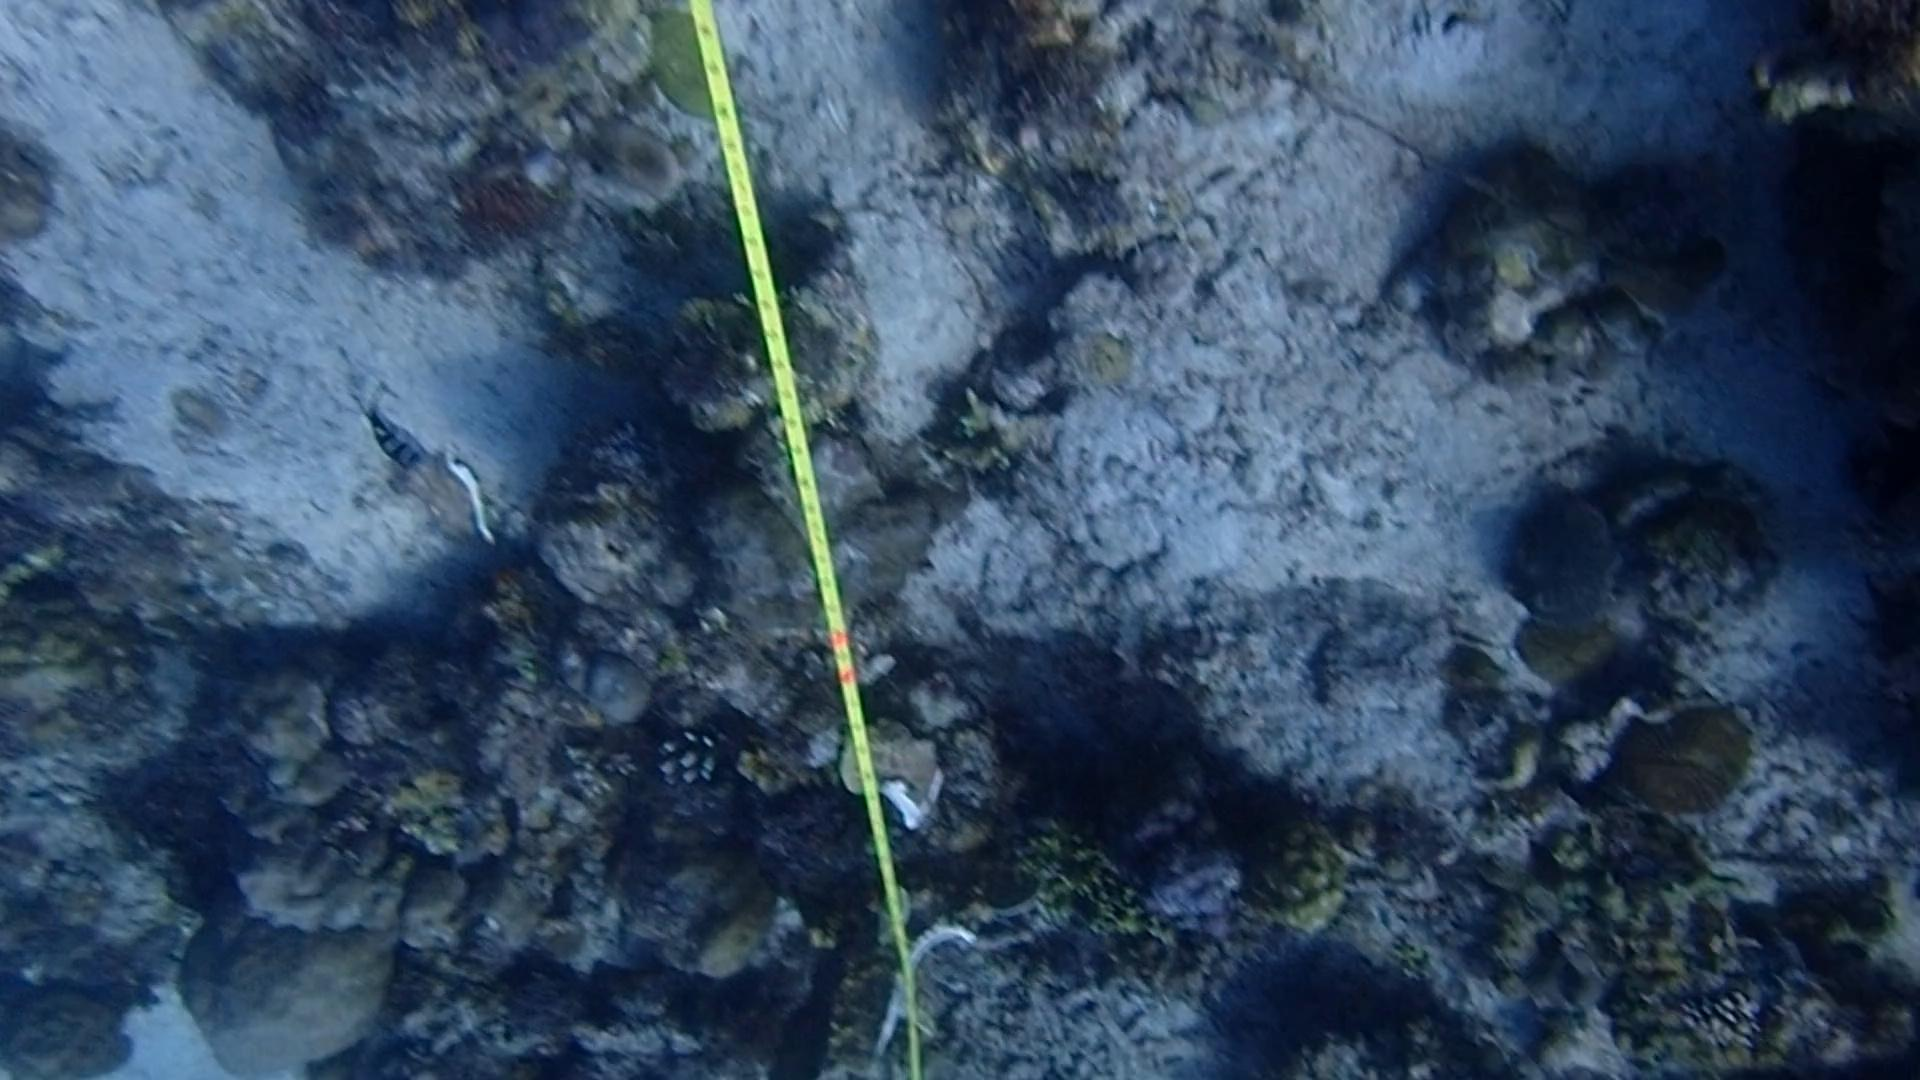Striped Fish: (348, 392, 444, 487)
